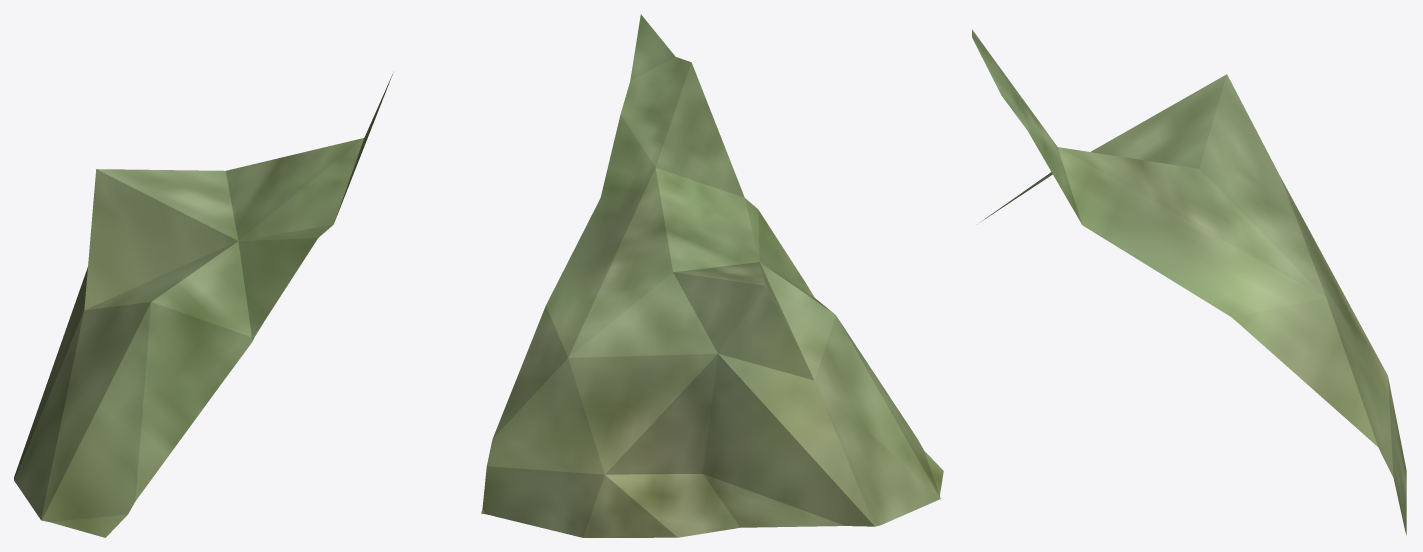
3 views of the same model, side by side, from view 1: azimuth 30°, elevation 25°; view 2: azimuth 150°, elevation 25°; view 3: azimuth 270°, elevation 25° (orthographic). The views are drawn at different scales.
Size of the model in its own units: 0.3786 by 0.421 by 0.318.
Materials: 1 (1 with a texture image).
